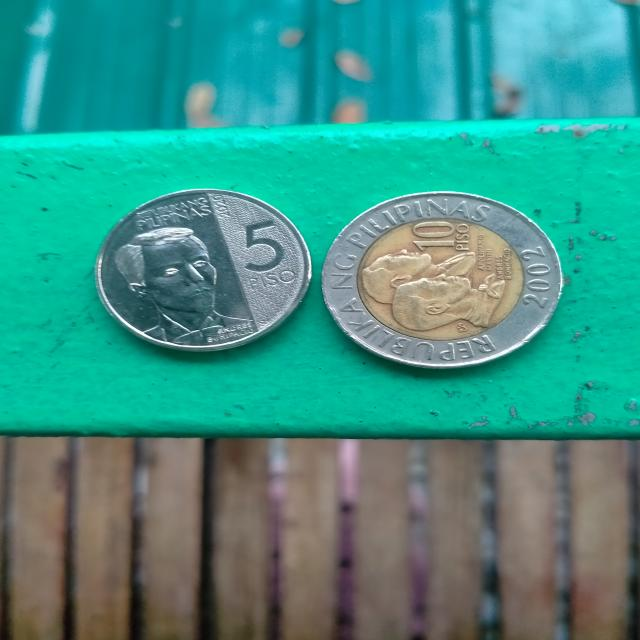10_Old_Front: (352, 205, 527, 341)
5_New_Front: (130, 200, 290, 340)
